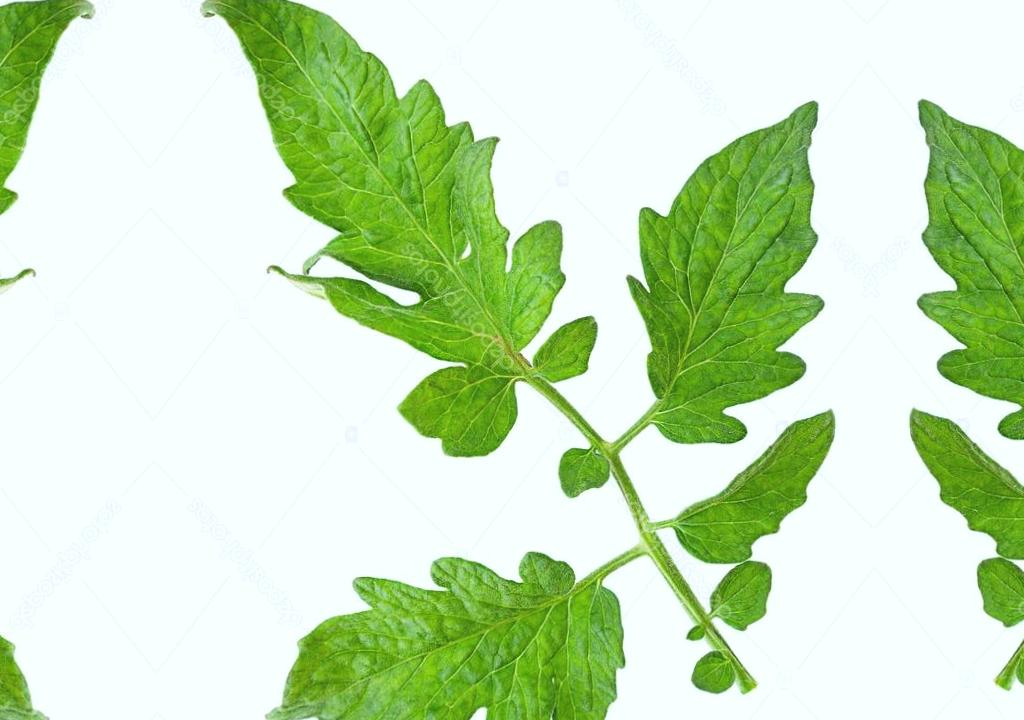Tomato leaf: (205, 0, 589, 495), (636, 55, 835, 448), (262, 531, 623, 720), (653, 405, 847, 570)
